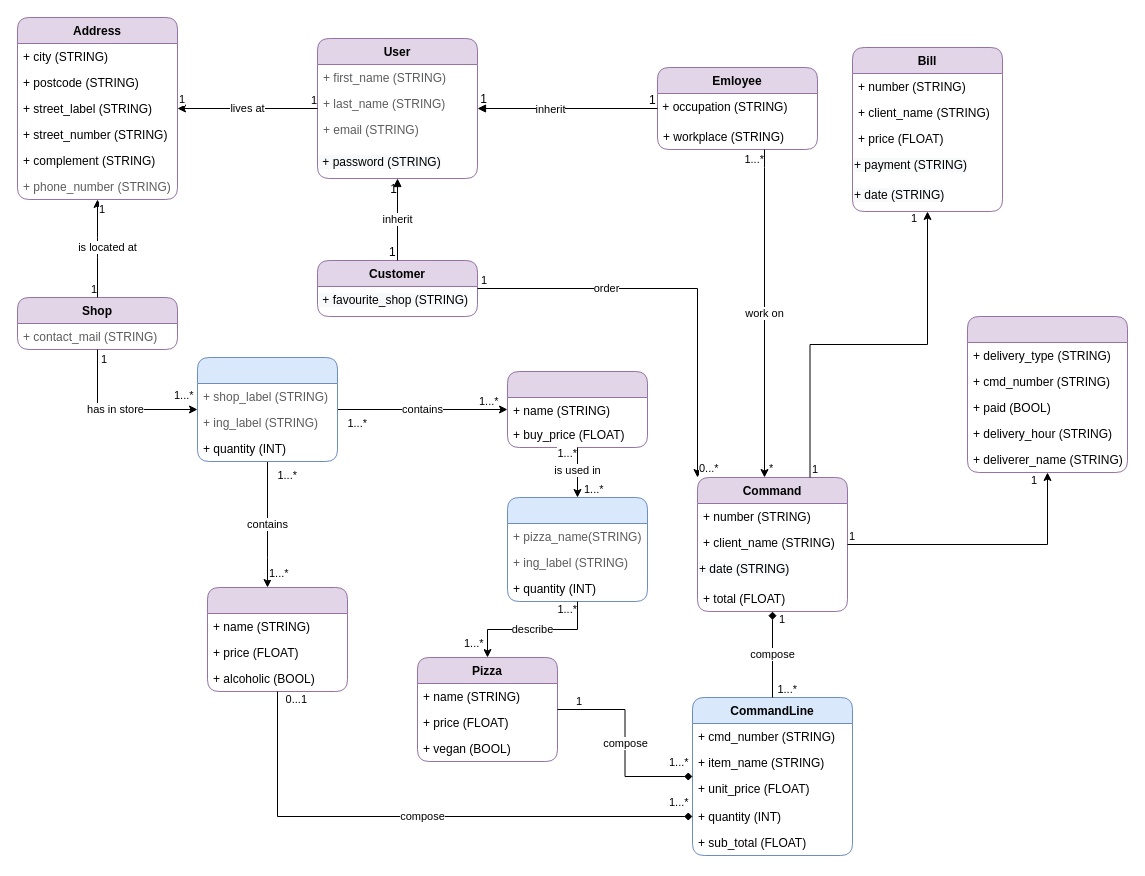
The diagram is 1145 pixels wide and 876 high, and some of its shapes have lost their labels. Here are the shapes that lost their labels. From the top down, the box of each, then its label:
(196, 356, 338, 462): Stock
(506, 370, 648, 448): Ingredient
(966, 316, 1128, 472): Expedition
(506, 496, 648, 602): Composition
(206, 586, 348, 692): Drinking
